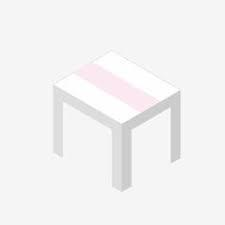desk: (35, 41, 197, 198)
